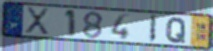1: (64, 9, 77, 38)
4: (109, 13, 132, 41)
8: (82, 10, 104, 40)
I: (148, 14, 158, 44)
Q: (165, 16, 188, 44)
X: (23, 6, 51, 37)
